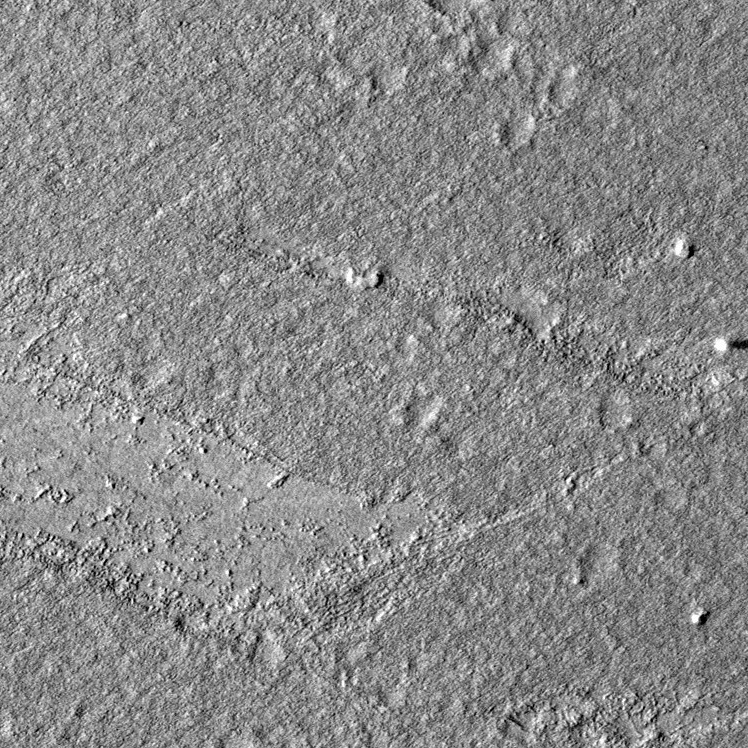dust_devil: (711, 336, 748, 354)
